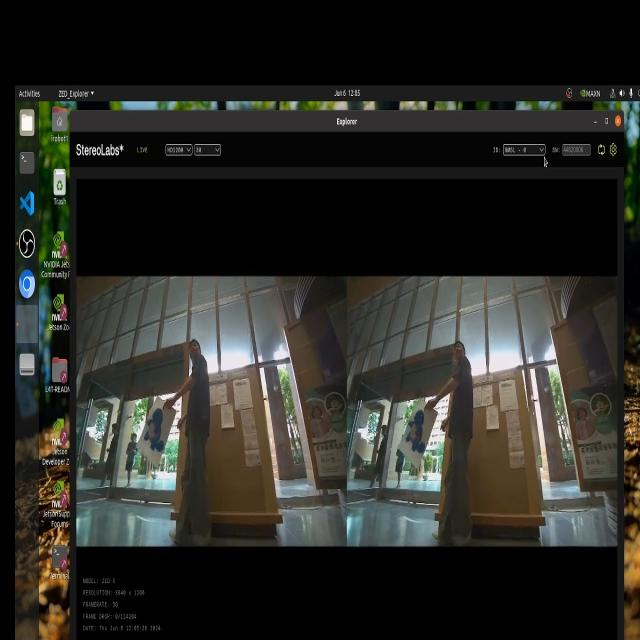blue: (146, 408, 168, 458), (413, 404, 431, 465)
